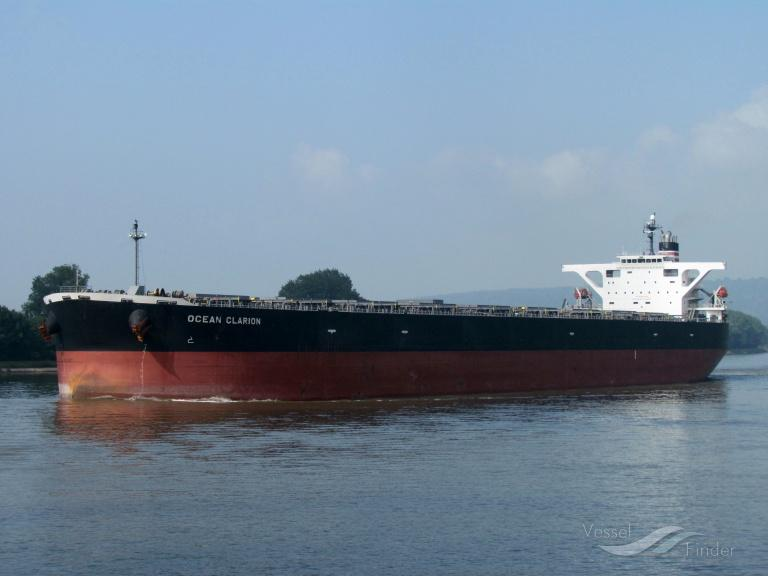OCR: (184, 306, 266, 334)
